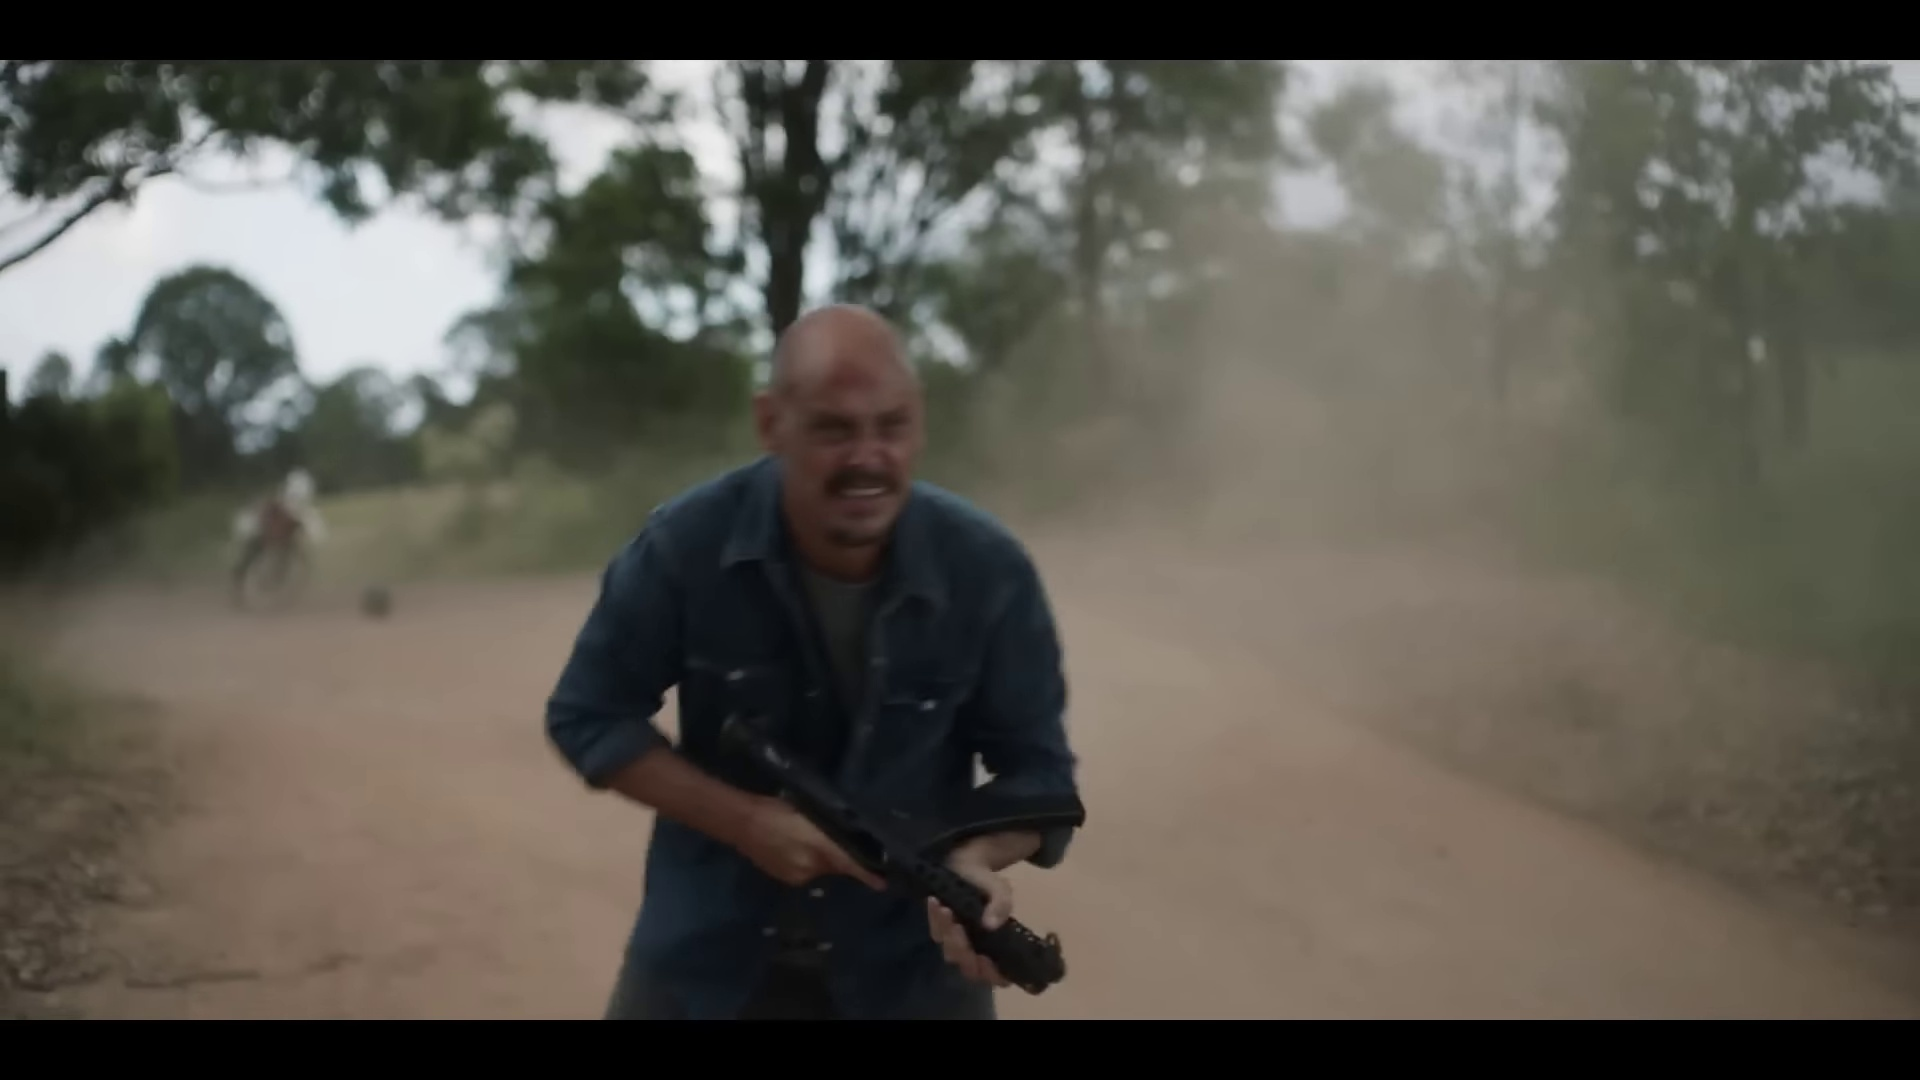gun: (704, 707, 1069, 1000)
p_w_gun: (541, 299, 1089, 1021)
